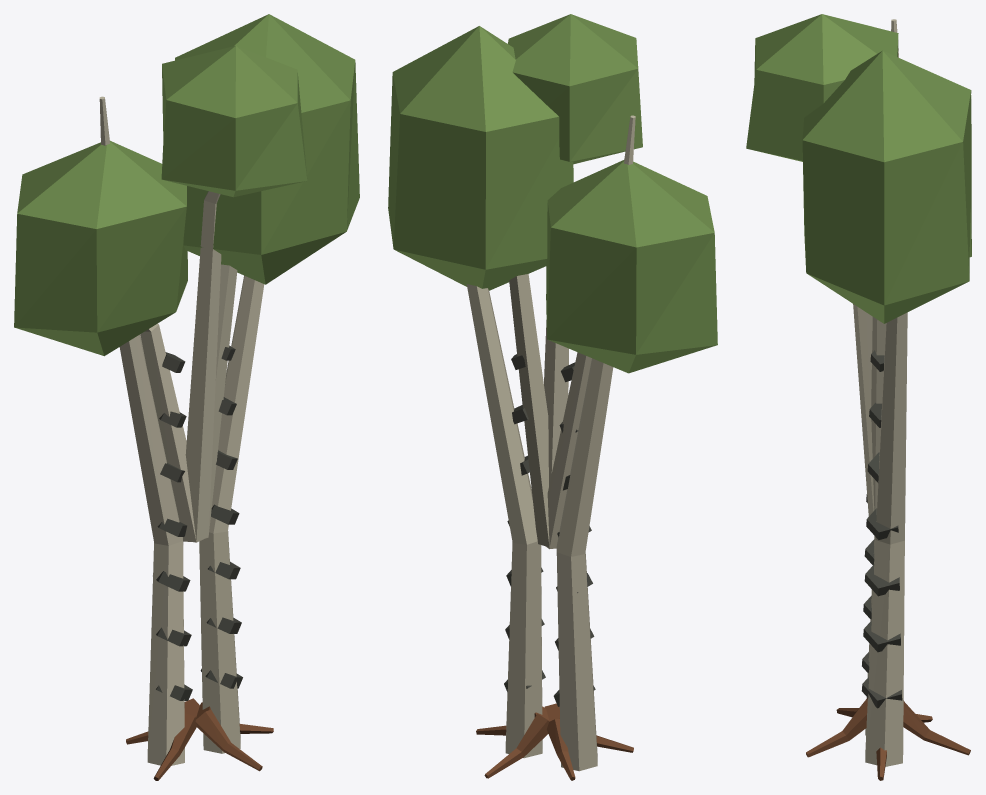
The model's file is Plant_Common_WhiteBarkBirch_001_LOD1.glb.
The picture shows the model from 3 angles, left to right: view 1: azimuth 30°, elevation 25°; view 2: azimuth 150°, elevation 25°; view 3: azimuth 270°, elevation 25°; orthographic projection. The views are drawn at different scales.
Visible parts, largest first — view 1: Plant_Common_WhiteBarkBirch_001_LOD1; view 2: Plant_Common_WhiteBarkBirch_001_LOD1; view 3: Plant_Common_WhiteBarkBirch_001_LOD1.
Part boxes in pixels (box(x1,y1,x2,y2)): Plant_Common_WhiteBarkBirch_001_LOD1: box(14, 14, 359, 780); Plant_Common_WhiteBarkBirch_001_LOD1: box(388, 14, 717, 780); Plant_Common_WhiteBarkBirch_001_LOD1: box(746, 14, 971, 780).
Bounding box in the file's own units: 3.28 × 6.71 × 1.86.
